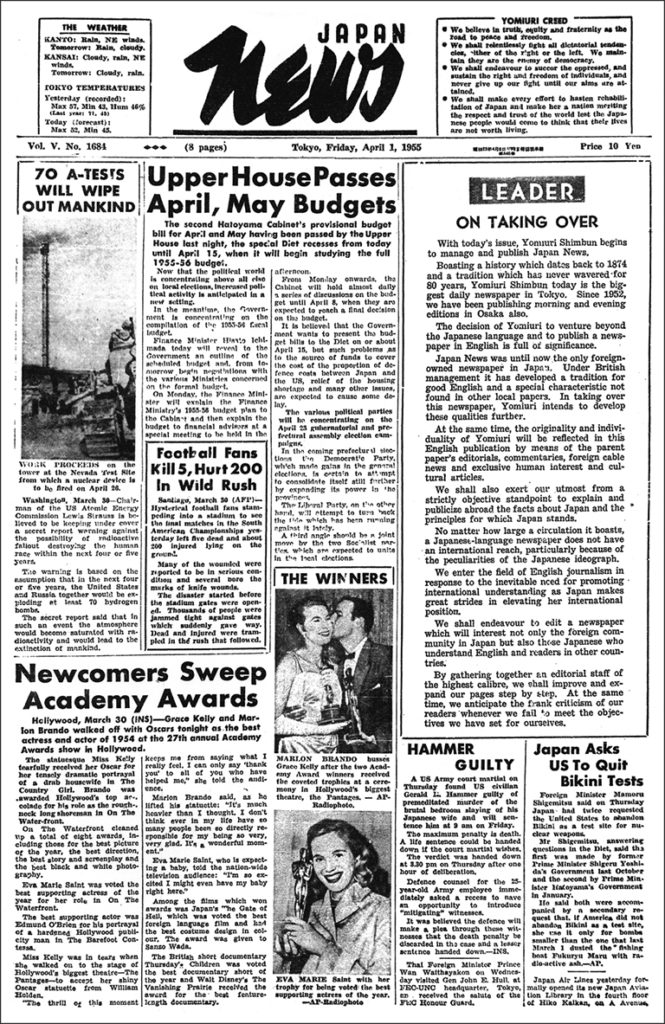news_paper: (7, 3, 665, 1020)
